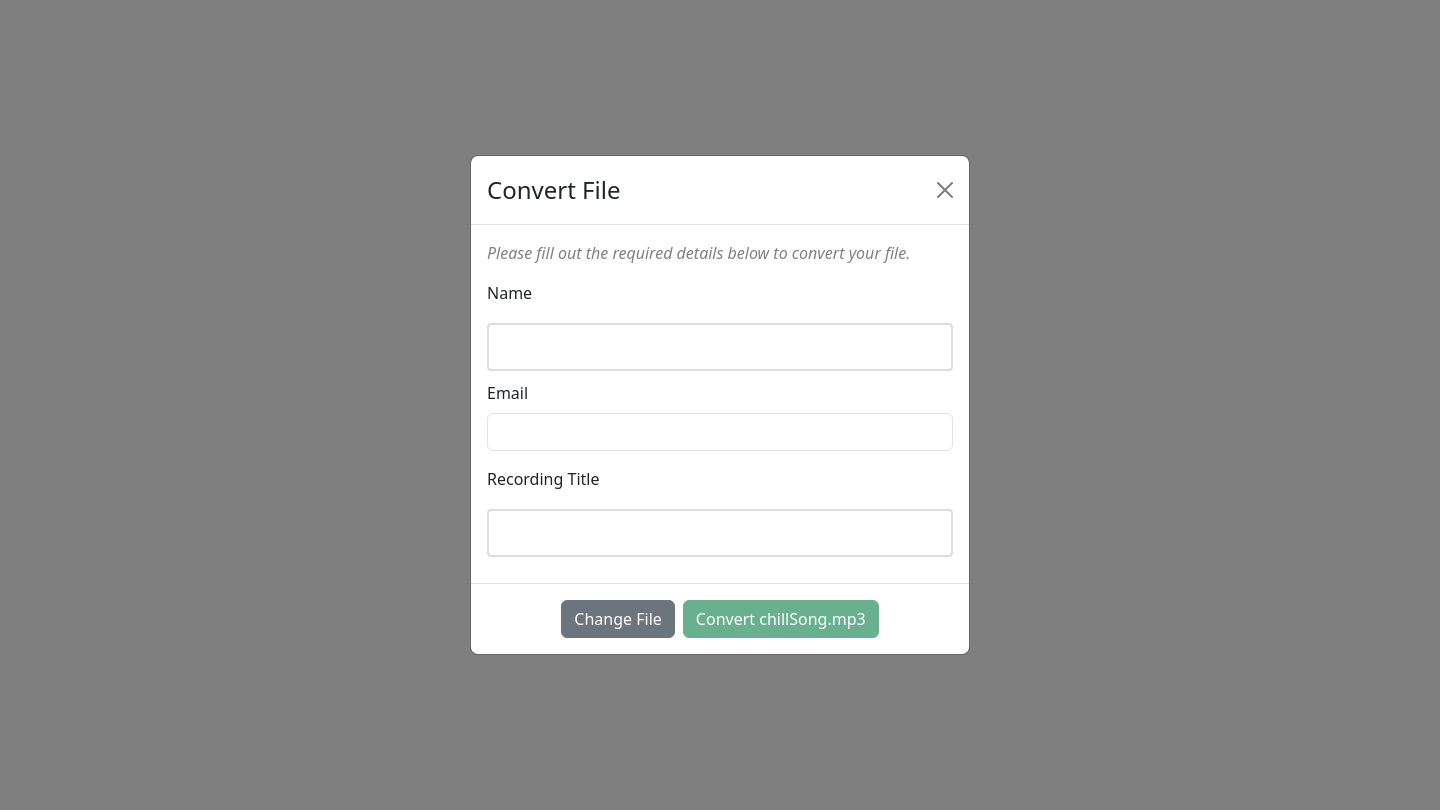
Scenario: ConvertFileModal › test handleConvert conversion success
This screenshot has width=1440, height=810.
Fill out the form
Type "John Doe" into the field with test id "name-input". click: (720, 347)
box: [487,323,953,371]
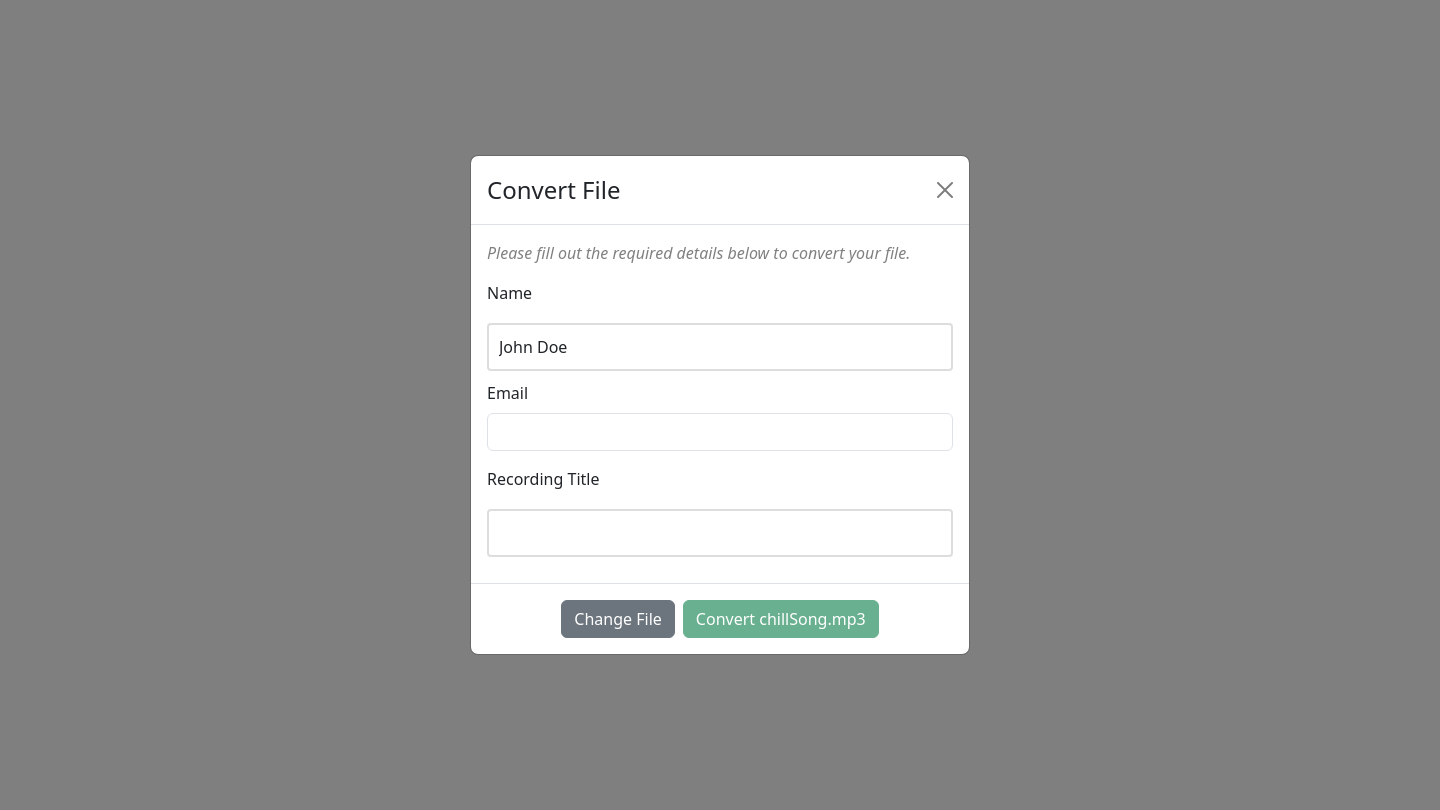
Type "john@email.com" into the field with test id "email-input". click: (720, 432)
box: [487,413,953,451]
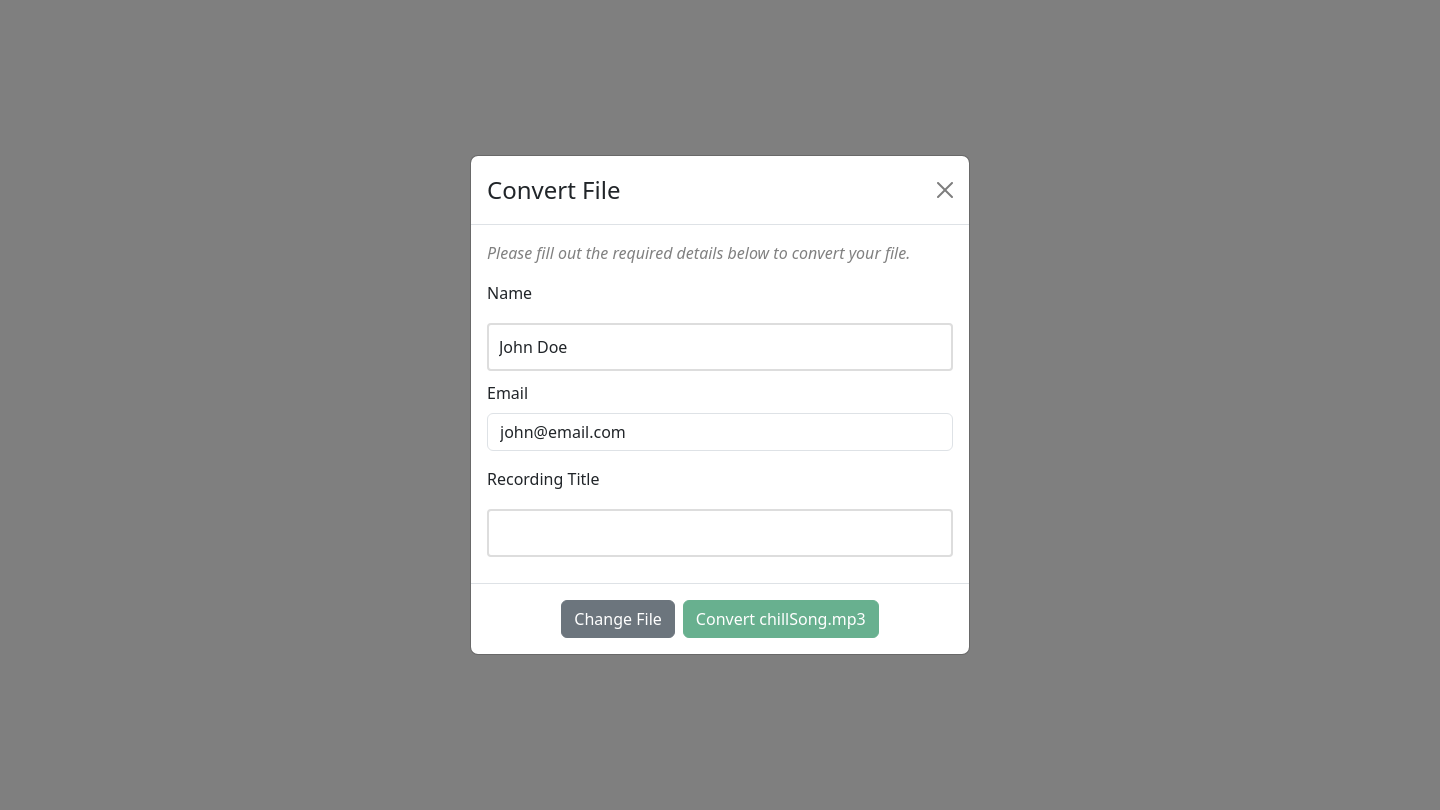
Type "recording title" into the field with test id "recording-title-input". click: (720, 533)
box: [487,509,953,557]
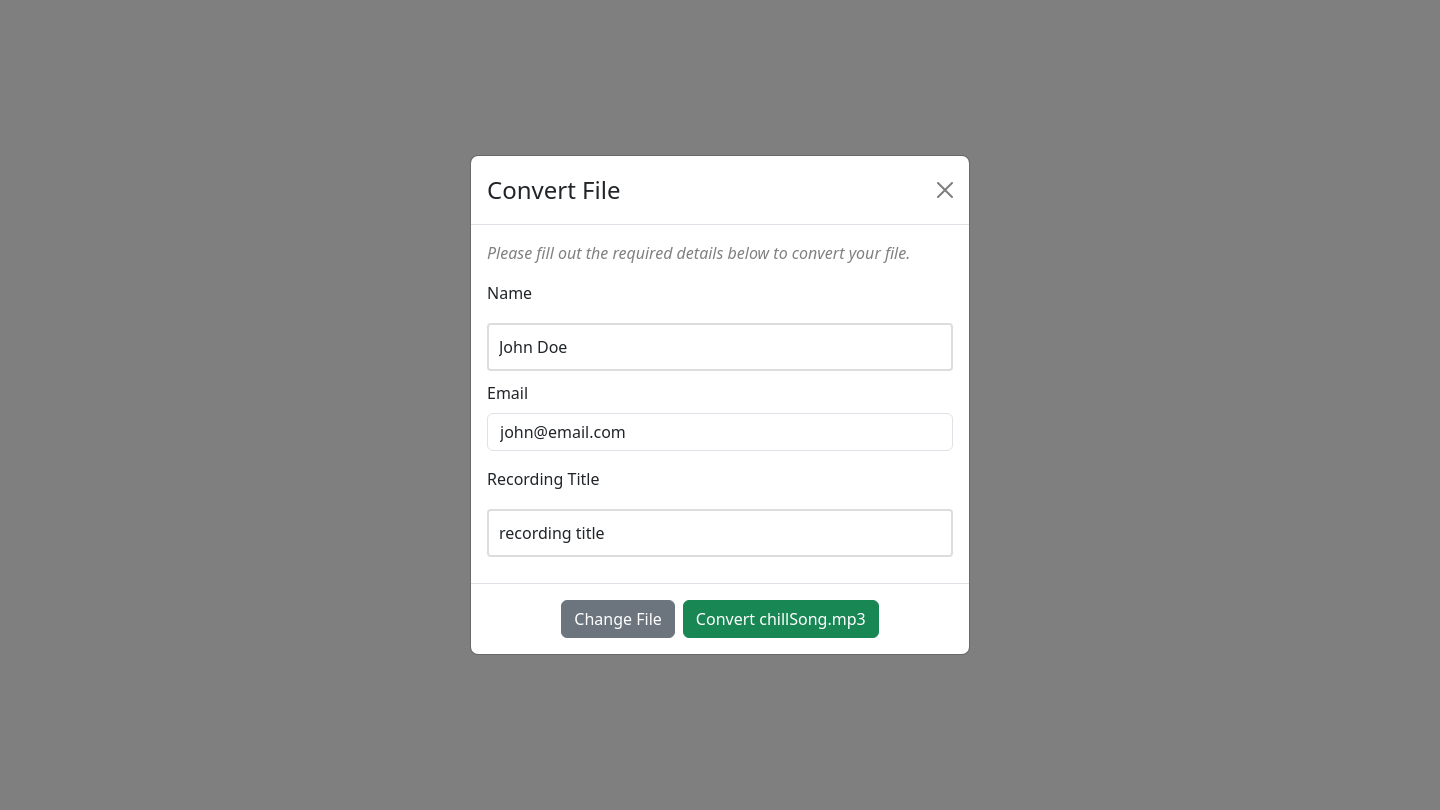
Click the convert button
Click the button with test id "convert-file-button". click: (781, 619)
box: [683,600,879,638]
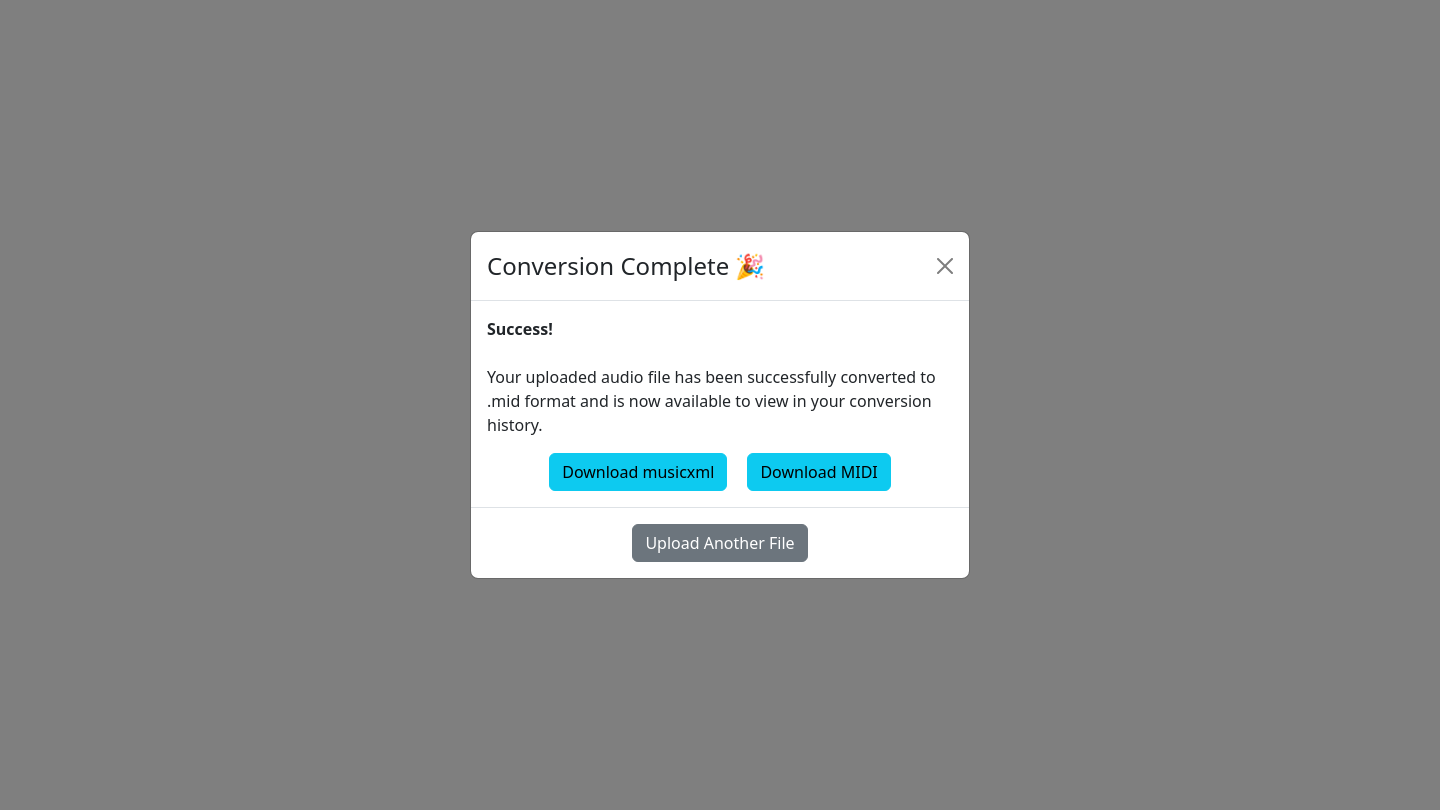
Now the text "Conversion Complete 🎉" is shown, box [487,248,766,284]
Now the text "Success!" is shown, box [487,318,553,340]
Now the text "Your uploaded audio file has been successfully converted to .mid format and is now available to view in your conversion " is shown, box [487,366,936,436]
